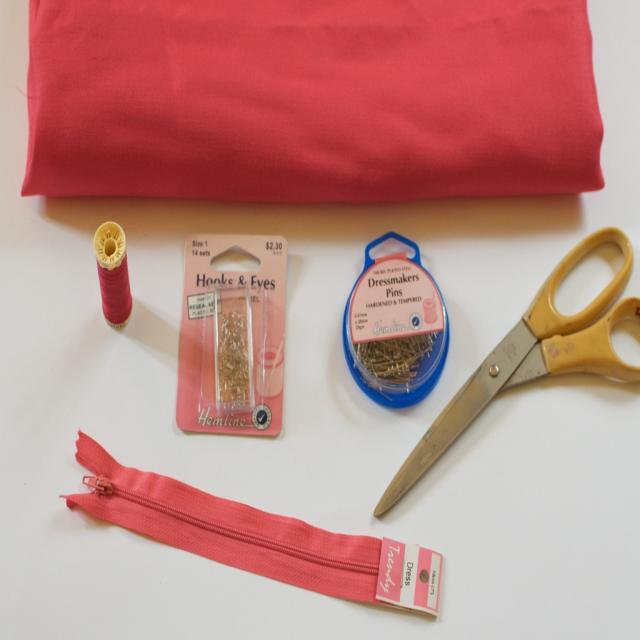scissors: (372, 225, 640, 517)
